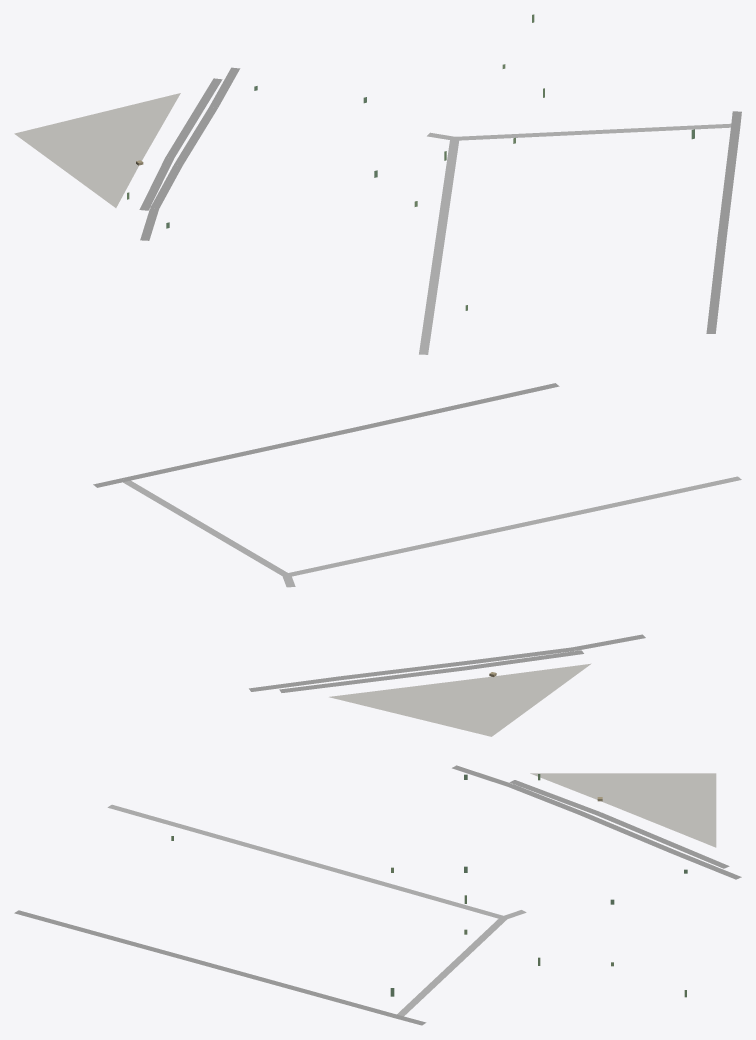
3 views of the same model, one above another, from view 1: azimuth 30°, elevation 25°; view 2: azimuth 150°, elevation 25°; view 3: azimuth 270°, elevation 25° (orthographic). The views are drawn at different scales.
Size of the model in its own units: 505 by 9.34 by 596.
